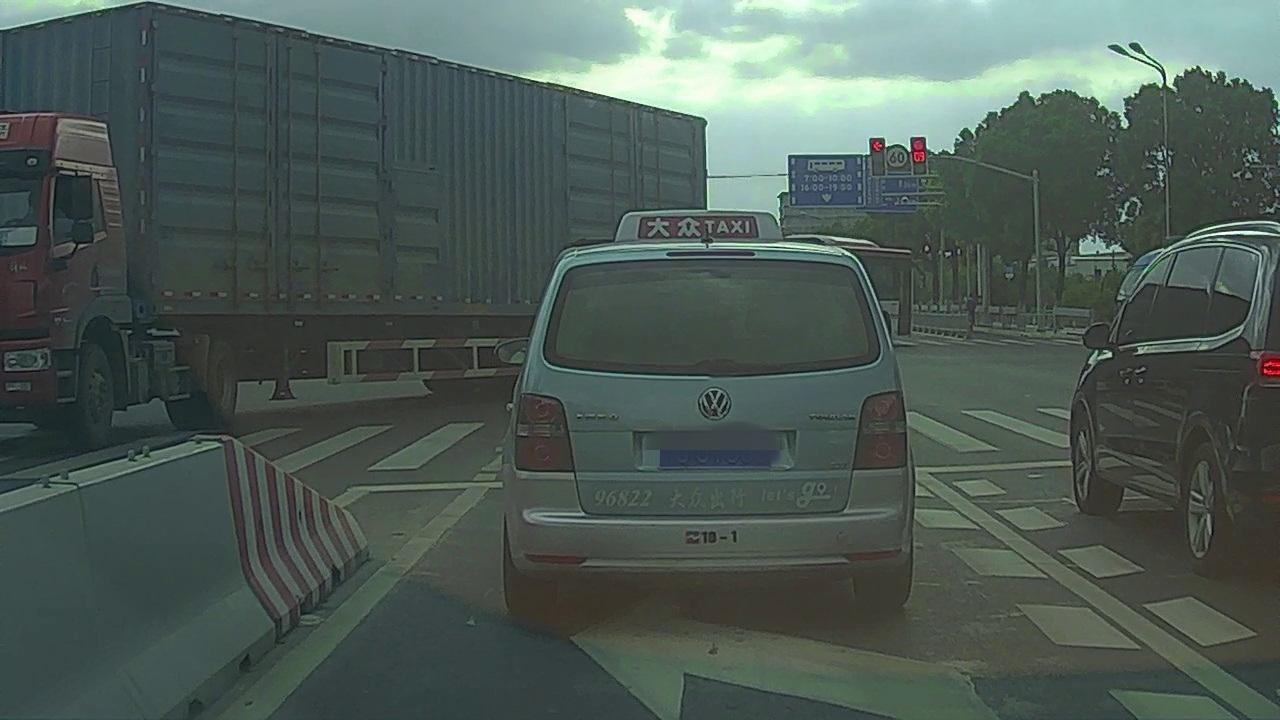traffic_light: (911, 137, 927, 175), (871, 138, 886, 176)
